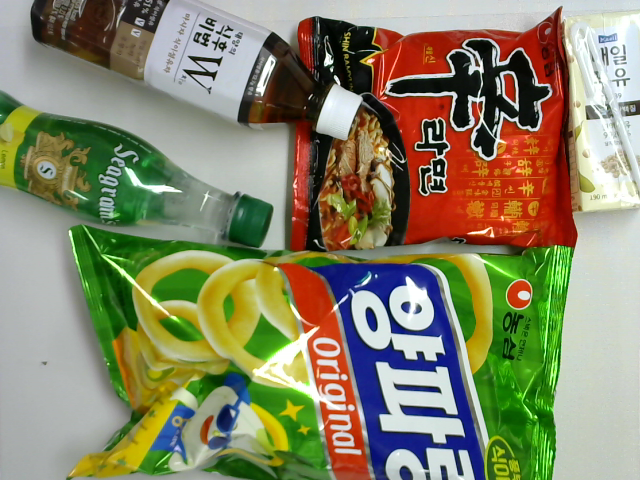99.89_Soymilk: (559, 7, 640, 216)
Oninon_Ring: (69, 223, 575, 479)
Post-meal_recipe_W_tea_500ml: (28, 1, 365, 143)
Seagram_Lemon_Carbonated_Water: (1, 88, 276, 249)
Sinramen: (288, 4, 580, 251)
